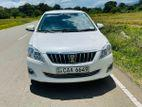car: (26, 8, 114, 83)
